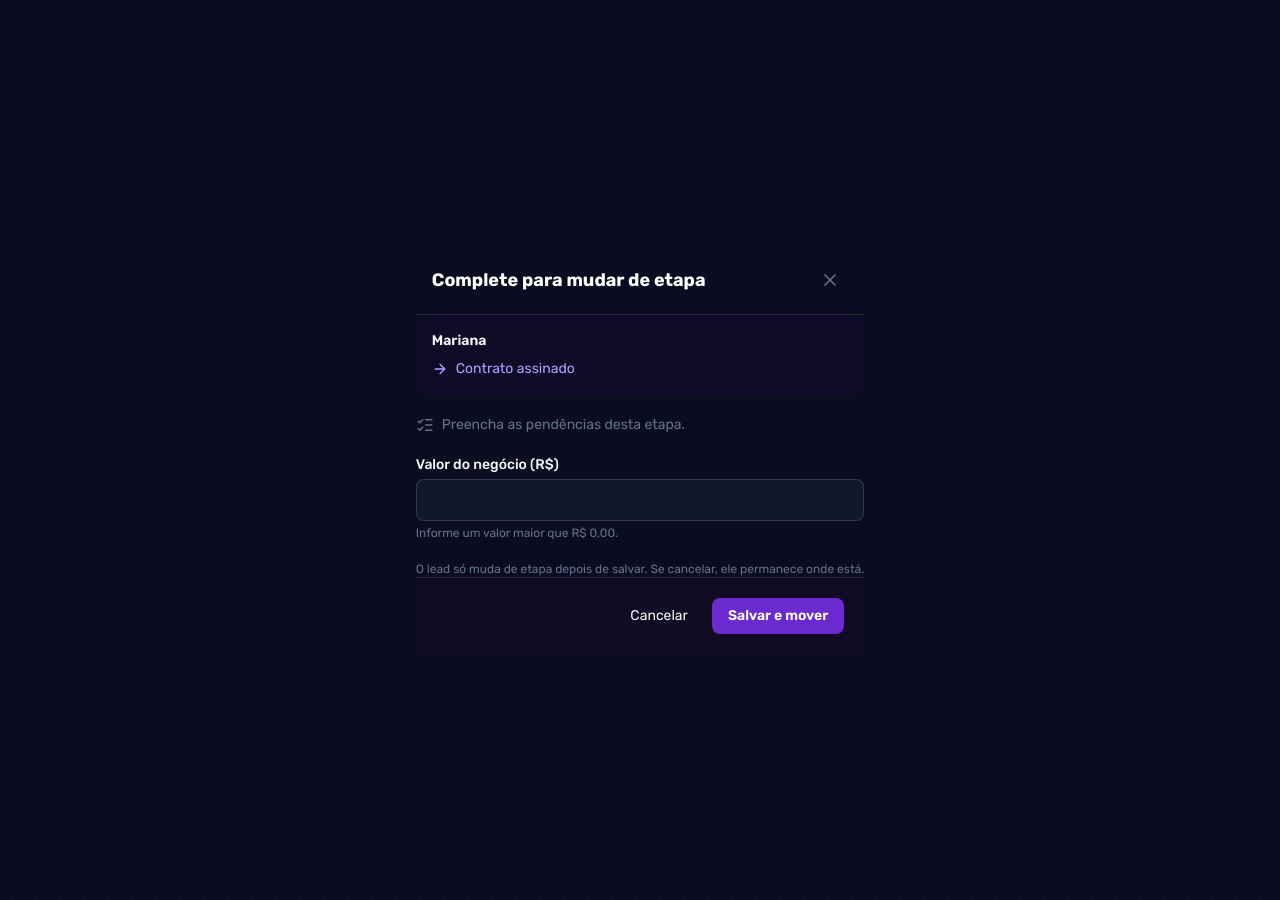
Test: blocks an empty or nonpositive deal value (-5) before persisting
Step 1. Type "-5" into the number field labelled "Valor do negócio (R$)" → {"x": 640, "y": 500}, box x1=416 y1=479 x2=864 y2=521
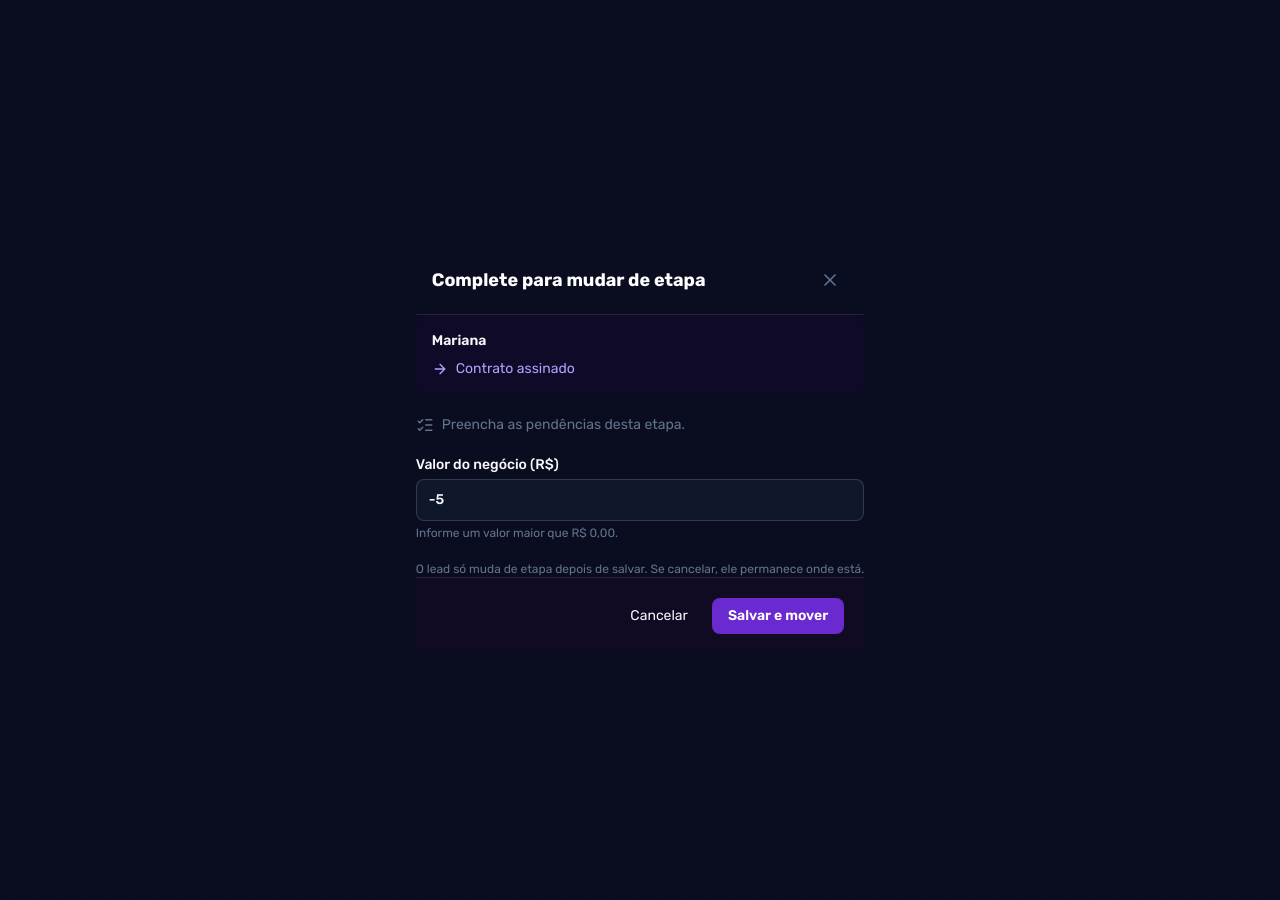
Step 2. Submit the form named "Valor do negócio (R$)", box x1=416 y1=315 x2=864 y2=577
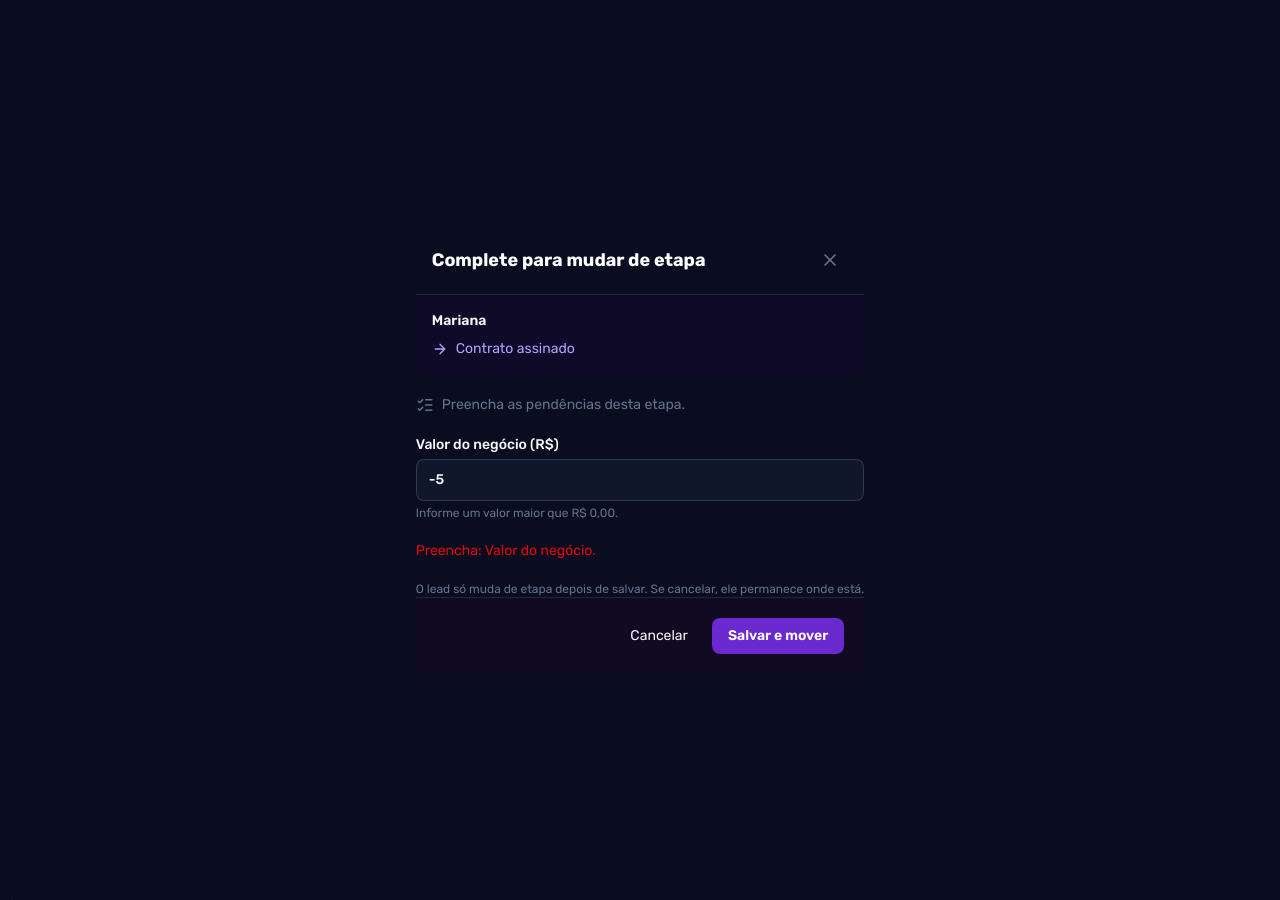
Expected: the dialog is shown, x1=416 y1=226 x2=864 y2=674
Expected: the message shows "Valor do negócio", x1=416 y1=542 x2=596 y2=559
